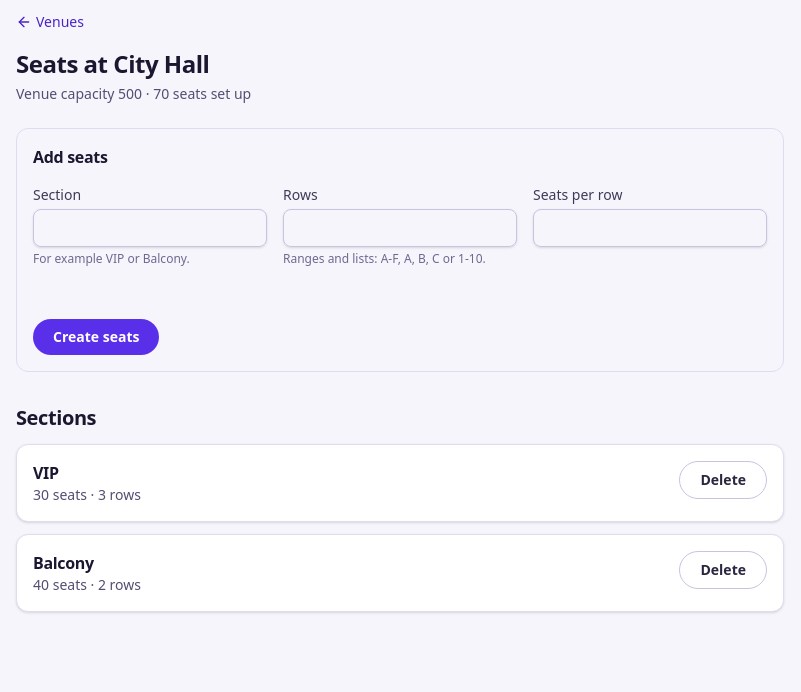
Test: OrganizerSeatsPage › shows the server's reason when creating seats is refused
Expected: the text "30 seats · 3 rows" is shown, [33,485,141,505]
Type "Gallery" into the field labelled "Section" at {"x": 150, "y": 228}, box [33,209,267,247]
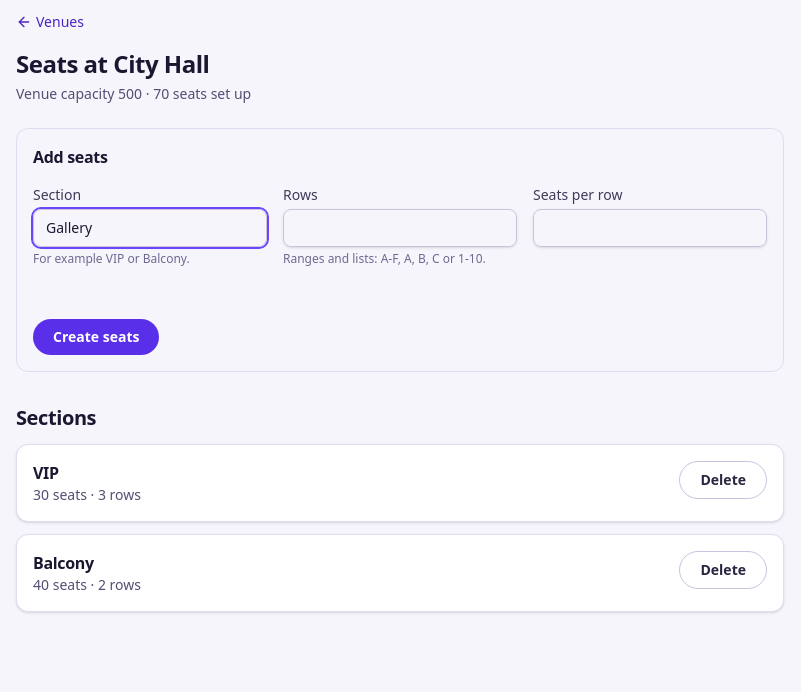
Type "A-C" into the field labelled "Rows" at {"x": 400, "y": 228}, box [283,209,517,247]
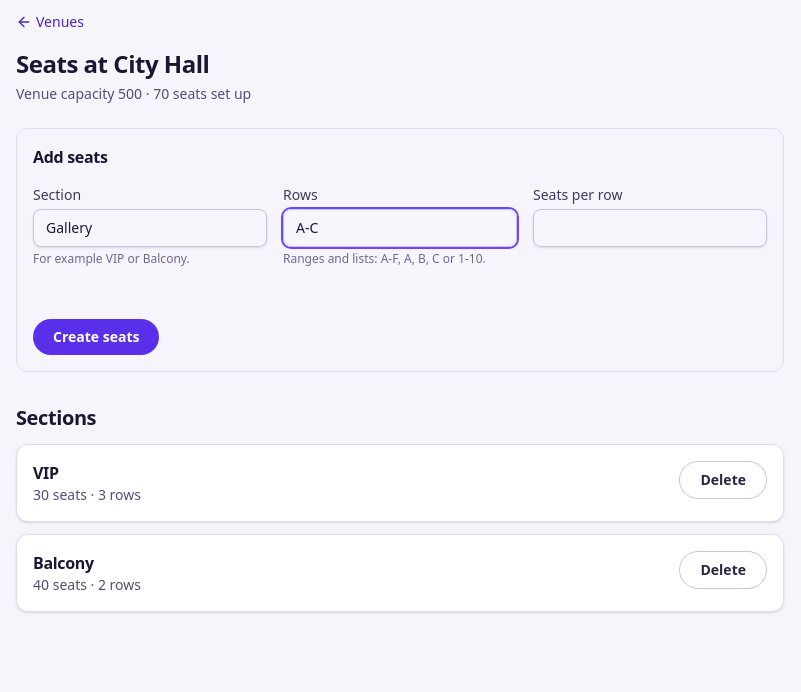
Type "10" into the number field labelled "Seats per row" at {"x": 650, "y": 228}, box [533,209,767,247]
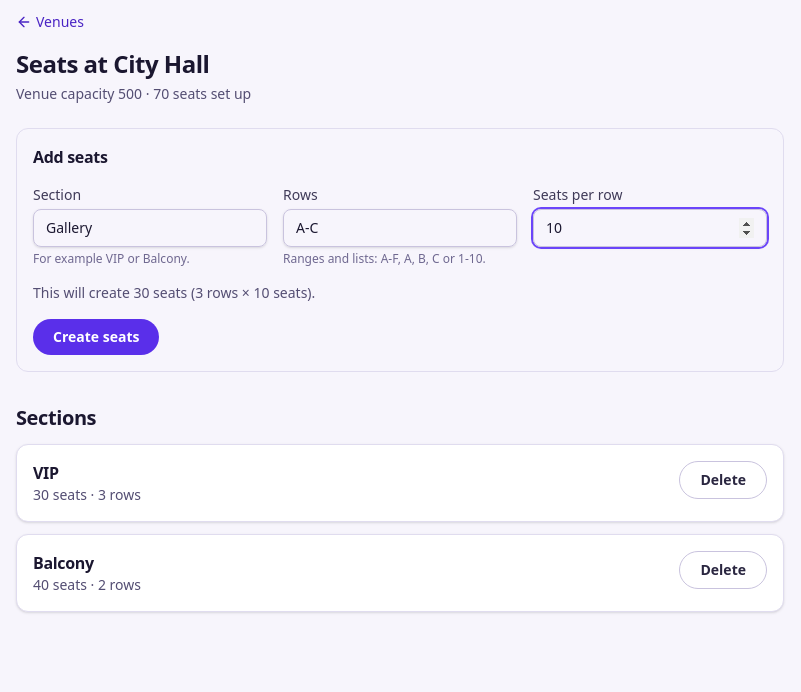
Click the button "Create seats" at {"x": 96, "y": 337}, box [33,319,159,355]
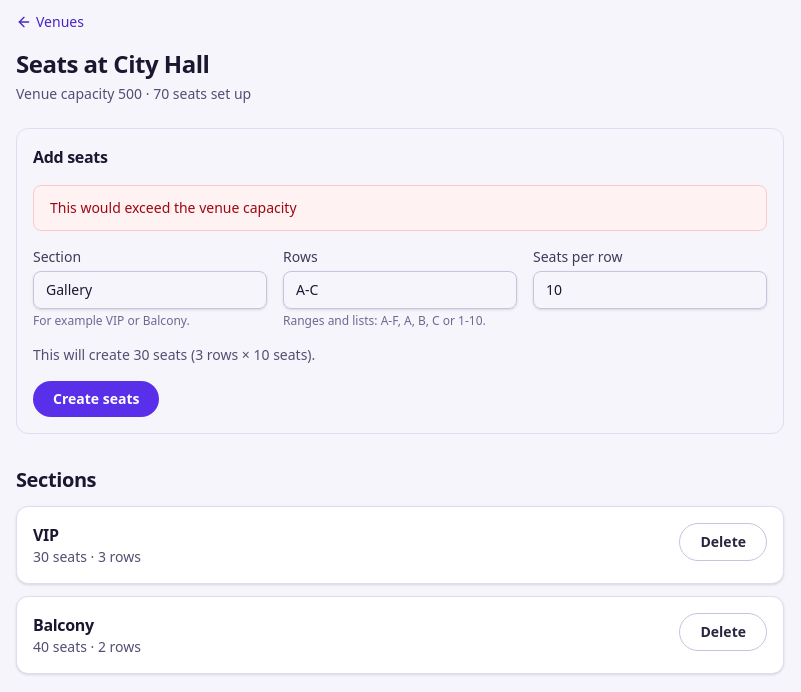
Now the message shows "exceed the venue capacity", box [50,198,296,217]
